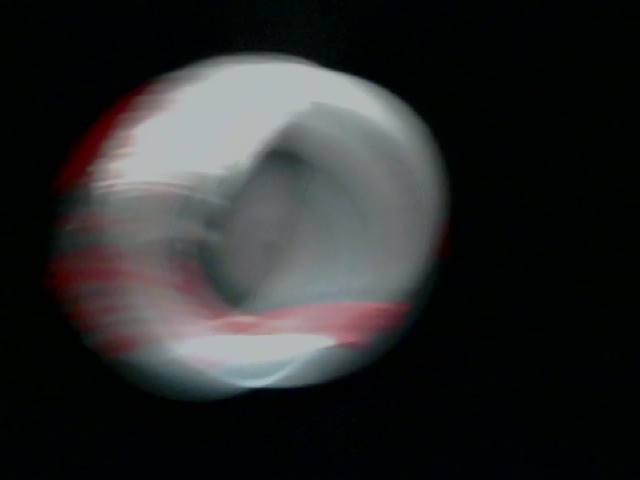CYLJ: (514, 398, 640, 478)
